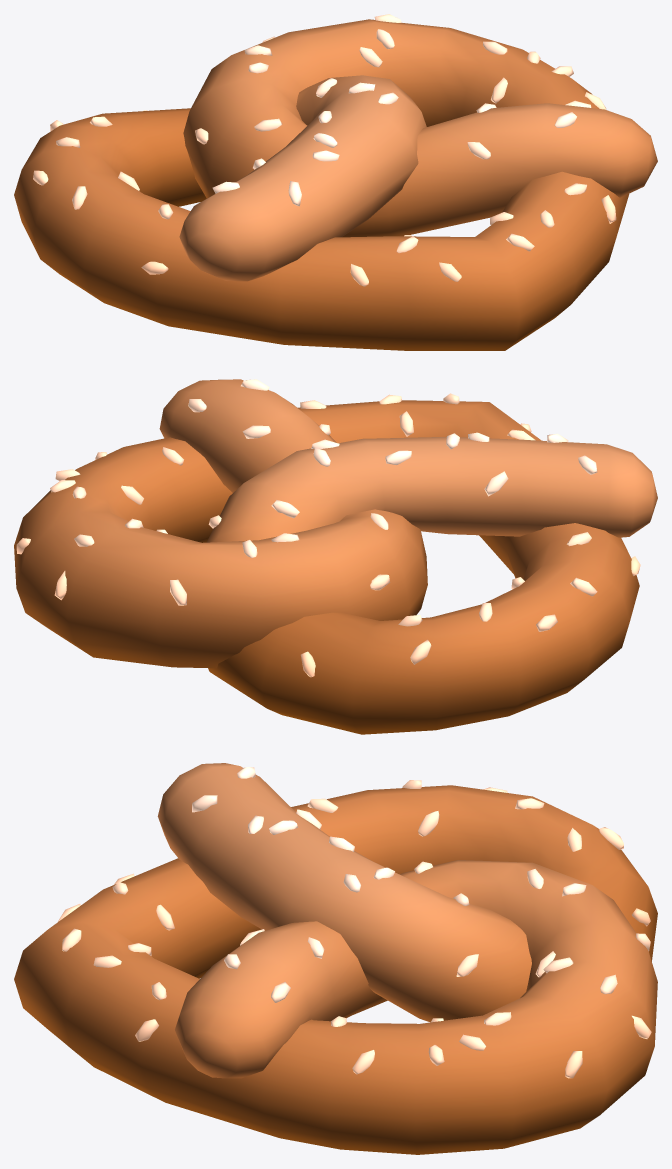
File: Pretzel_01.glb
3 views of the same model, one above another, from view 1: azimuth 30°, elevation 25°; view 2: azimuth 150°, elevation 25°; view 3: azimuth 270°, elevation 25° (orthographic). The views are drawn at different scales.
Parts seen in each view (by area): view 1: Pretzel_01; view 2: Pretzel_01; view 3: Pretzel_01.
Part boxes in pixels (bbox=[...]): Pretzel_01: bbox=[14, 14, 657, 350]; Pretzel_01: bbox=[14, 379, 657, 734]; Pretzel_01: bbox=[14, 763, 657, 1154].
Size of the model in its own units: 9.64 by 2.84 by 8.97.
Materials: 2 (2 with a texture image).
